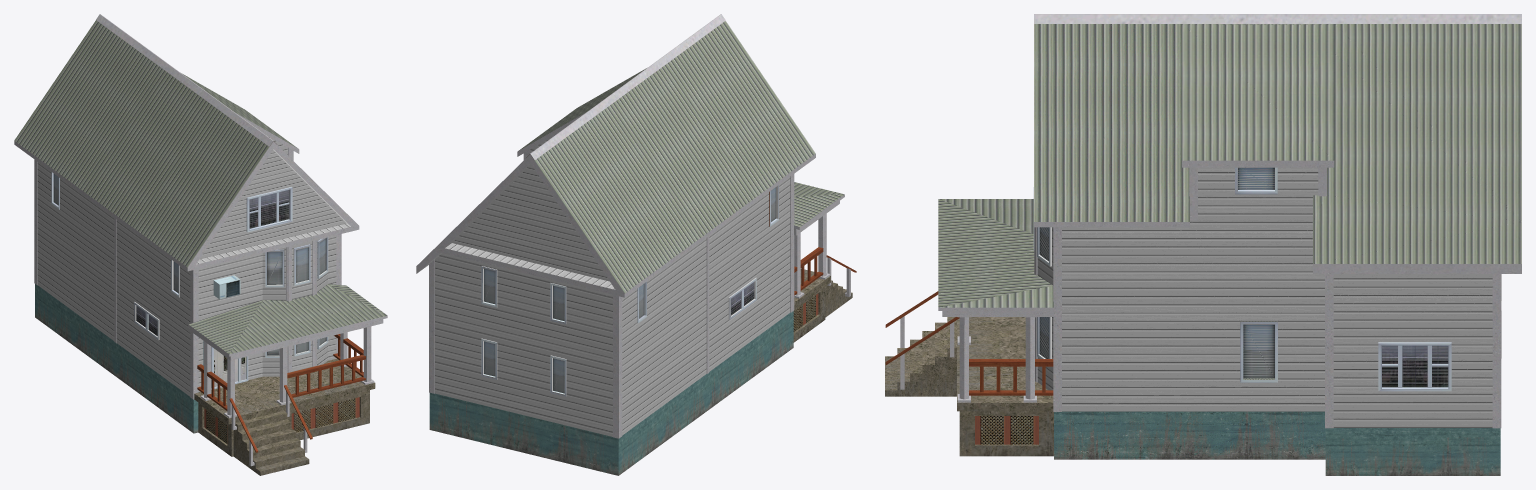
File: woodenHouse.FBX
3 renders of one model, left to right at view 1: azimuth 30°, elevation 25°; view 2: azimuth 150°, elevation 25°; view 3: azimuth 270°, elevation 25°, orthographic. The views are drawn at different scales.
Visible parts, largest first — view 1: woodenHouse; view 2: woodenHouse; view 3: woodenHouse.
Boxes of the visible parts, left/top/right/bottom form: woodenHouse: left=14, top=14, right=387, bottom=475; woodenHouse: left=416, top=14, right=856, bottom=475; woodenHouse: left=885, top=14, right=1521, bottom=475.
Size of the model in its own units: 7.82 by 11.07 by 16.21.
